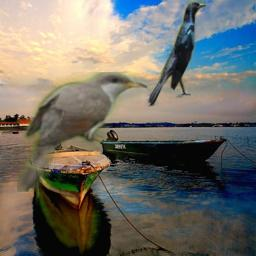Crow: (146, 0, 206, 107)
Cuckoo: (17, 72, 147, 192)
